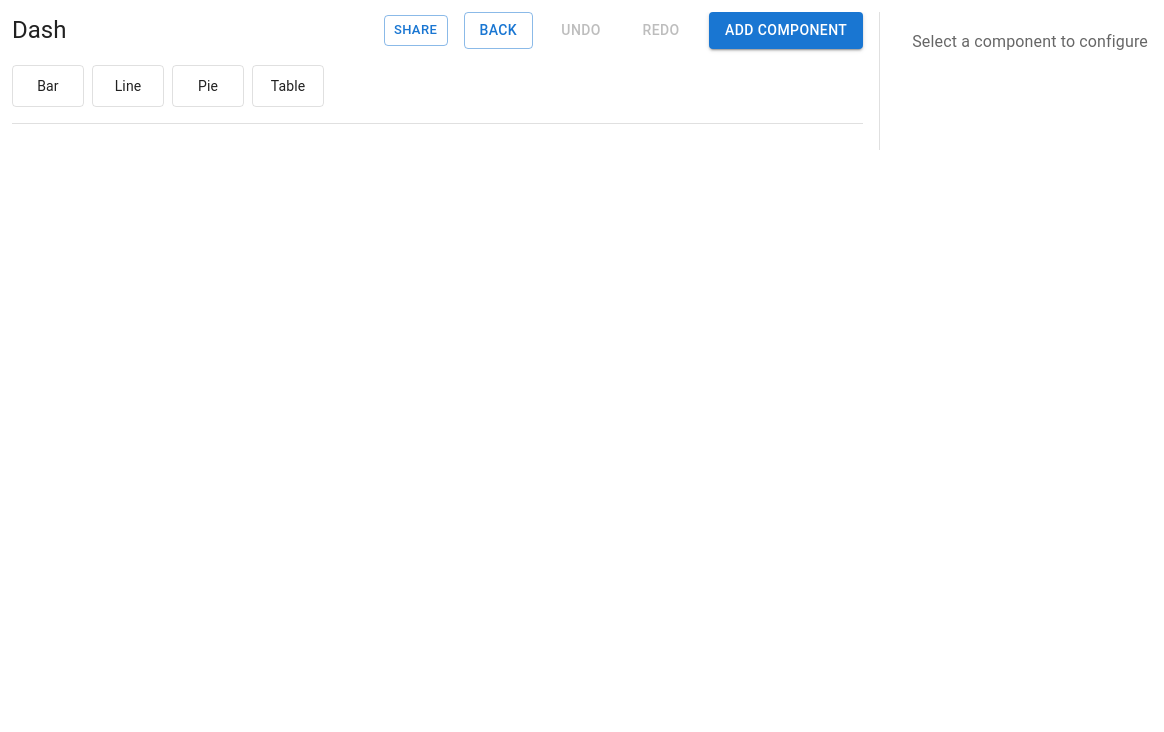
Test: DashboardEditPage charts integration › renders a chart after adding and binding
This screenshot has width=1164, height=732.
Note: Add a bar component
Click the button with aria-label "Add Bar component": {"x": 48, "y": 86} [12,64,84,106]
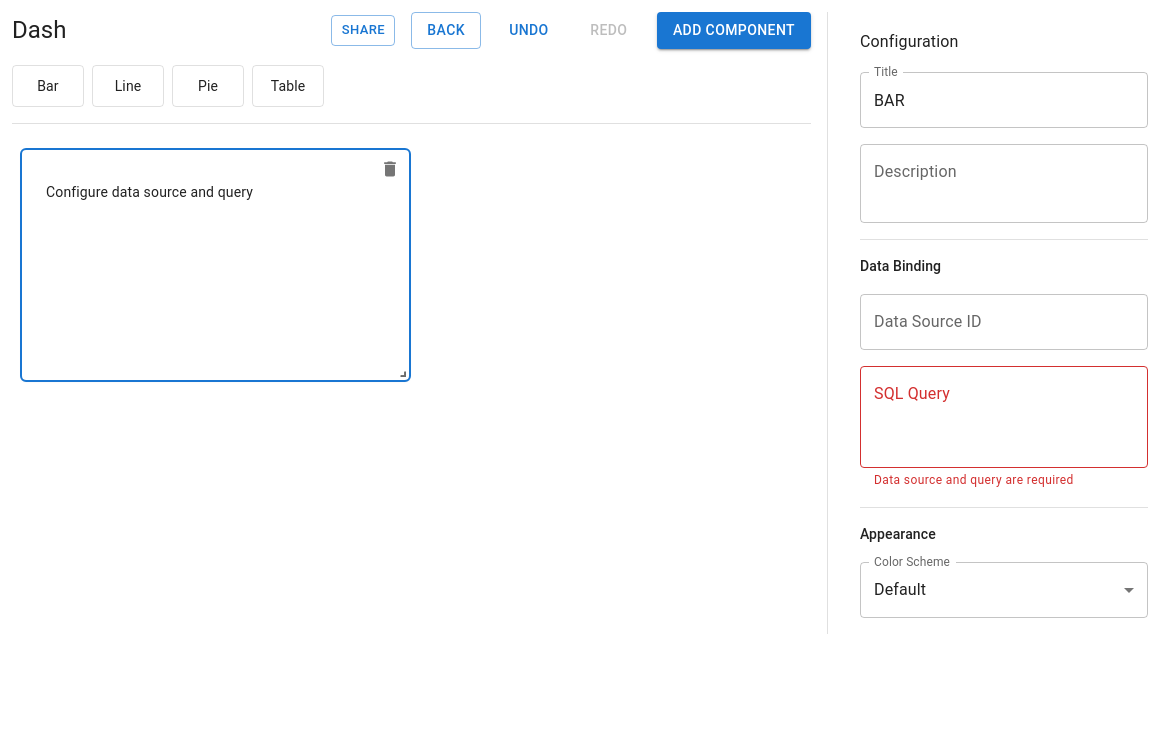
Expected: the text "Configure data source and query" is shown, [46,184,253,200]
